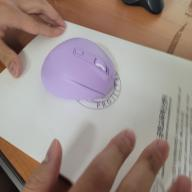mouse: (40, 37, 116, 101)
